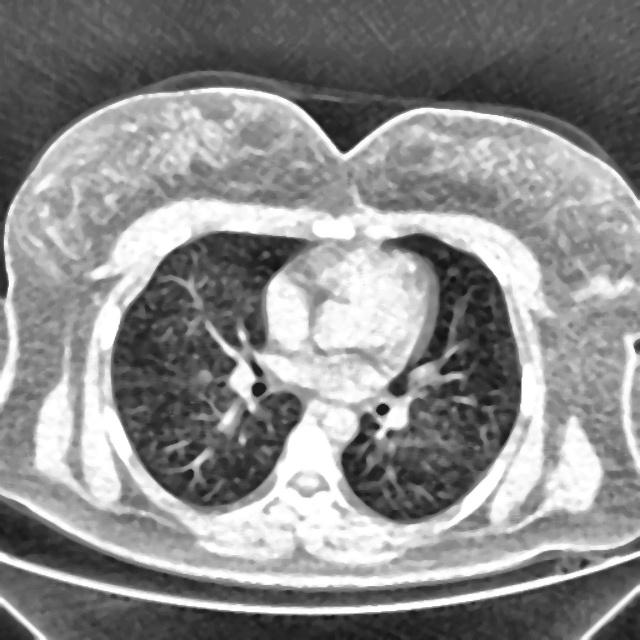covid: (1, 80, 638, 604)
